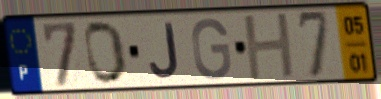7: (39, 20, 80, 90), (295, 9, 331, 82)
G: (189, 15, 233, 82)
H: (241, 10, 298, 83)
J: (148, 21, 182, 81)
O: (82, 19, 130, 87)
